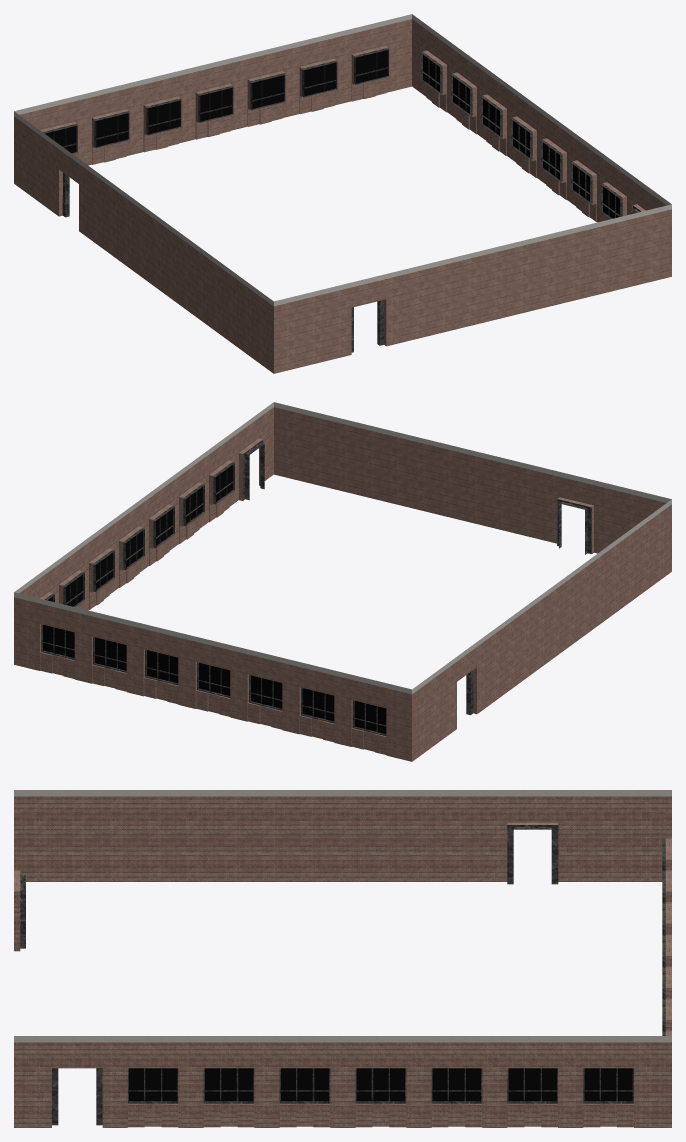
The model's file is BuildingC_Bottom_Shell_VarB.fbx.
3 views of the same model, one above another, from view 1: azimuth 30°, elevation 25°; view 2: azimuth 150°, elevation 25°; view 3: azimuth 270°, elevation 25° (orthographic). The views are drawn at different scales.
Parts seen in each view (by area): view 1: BuildingC_Bottom_Shell_VarB; view 2: BuildingC_Bottom_Shell_VarB; view 3: BuildingC_Bottom_Shell_VarB.
Boxes of the visible parts, x1,y1,x2,y2 form: BuildingC_Bottom_Shell_VarB: (14, 14, 671, 373); BuildingC_Bottom_Shell_VarB: (14, 402, 671, 761); BuildingC_Bottom_Shell_VarB: (14, 790, 671, 1127).
Bounding box in the file's own units: 2300 × 400 × 2600.
